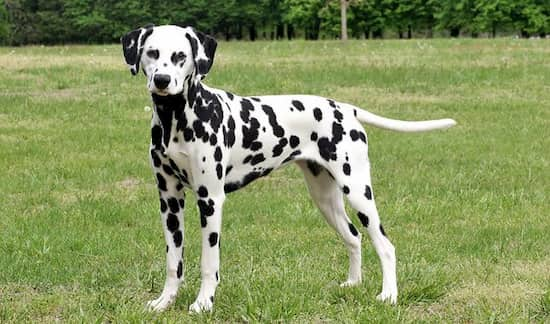dog: (117, 17, 467, 315)
